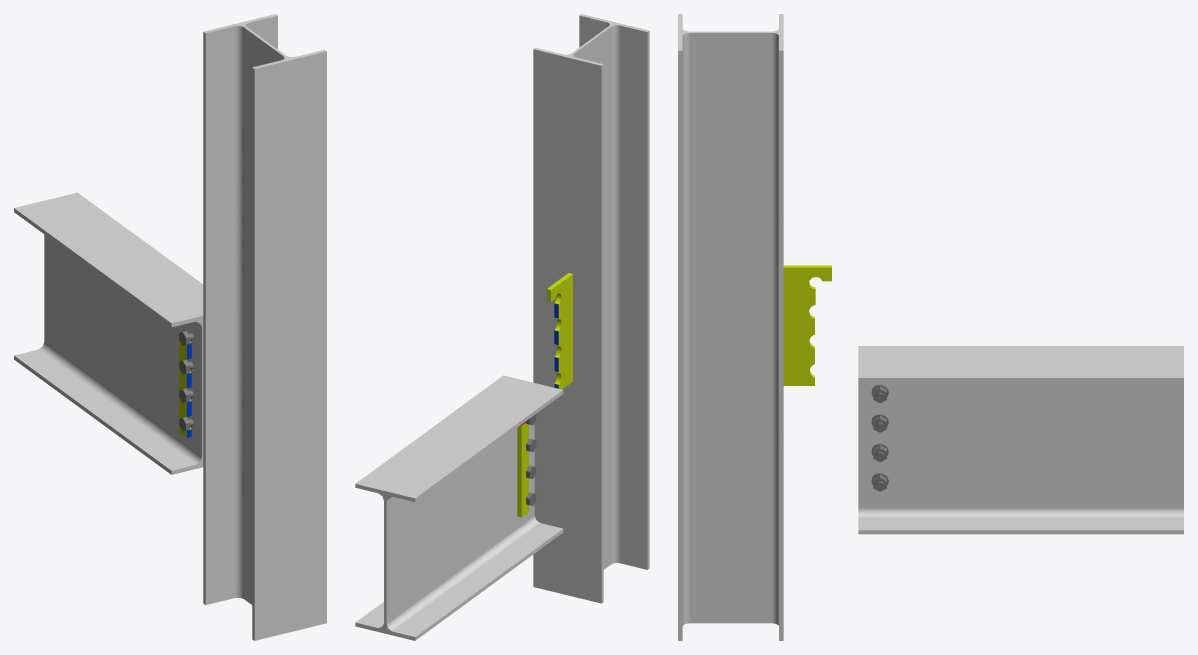
File: 03a-Block Shear.glb
The picture shows the model from 3 angles, left to right: view 1: azimuth 30°, elevation 25°; view 2: azimuth 150°, elevation 25°; view 3: azimuth 270°, elevation 25°; orthographic projection. The views are drawn at different scales.
Parts seen in each view (by area): view 1: W-Wide Flange-Column W10X33 (1) [1245414], W-Wide Flange W16X36 (1) [1518880], [1715587], [1715589]; view 2: W-Wide Flange-Column W10X33 (1) [1245414], W-Wide Flange W16X36 (1) [1518880], [1717144], [1715587], [1715589]; view 3: W-Wide Flange-Column W10X33 (1) [1245414], W-Wide Flange W16X36 (1) [1518880], [1717144], [1715589].
Part boxes in pixels (x1=…): W-Wide Flange-Column W10X33 (1) [1245414]: x1=203, y1=14, x2=326, y2=640; W-Wide Flange W16X36 (1) [1518880]: x1=14, y1=192, x2=203, y2=474; [1715587]: x1=179, y1=335, x2=191, y2=437; [1715589]: x1=179, y1=331, x2=193, y2=431; W-Wide Flange-Column W10X33 (1) [1245414]: x1=533, y1=14, x2=649, y2=603; W-Wide Flange W16X36 (1) [1518880]: x1=355, y1=375, x2=563, y2=640; [1717144]: x1=547, y1=273, x2=572, y2=389; [1715587]: x1=517, y1=421, x2=528, y2=517; [1715589]: x1=526, y1=414, x2=536, y2=505; W-Wide Flange-Column W10X33 (1) [1245414]: x1=678, y1=14, x2=783, y2=640; W-Wide Flange W16X36 (1) [1518880]: x1=858, y1=346, x2=1183, y2=534; [1717144]: x1=783, y1=265, x2=831, y2=385; [1715589]: x1=871, y1=384, x2=888, y2=491.
Size of the model in its own units: 0.2022 by 1.52 by 1.18.
